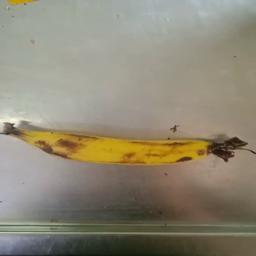Banana Rotten: (2, 104, 256, 178)
